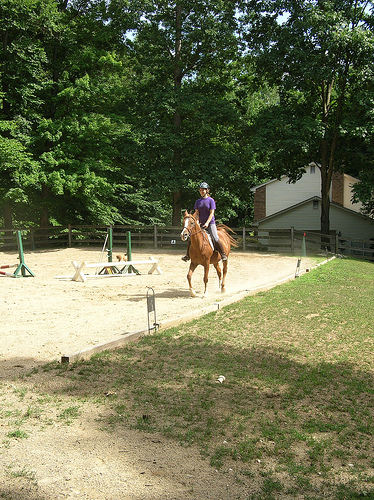without_mask: (197, 187, 212, 199)
